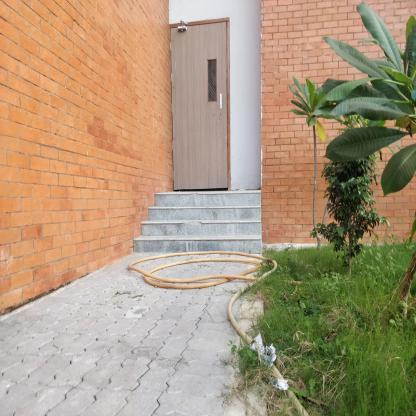stairs: (158, 195, 259, 262)
